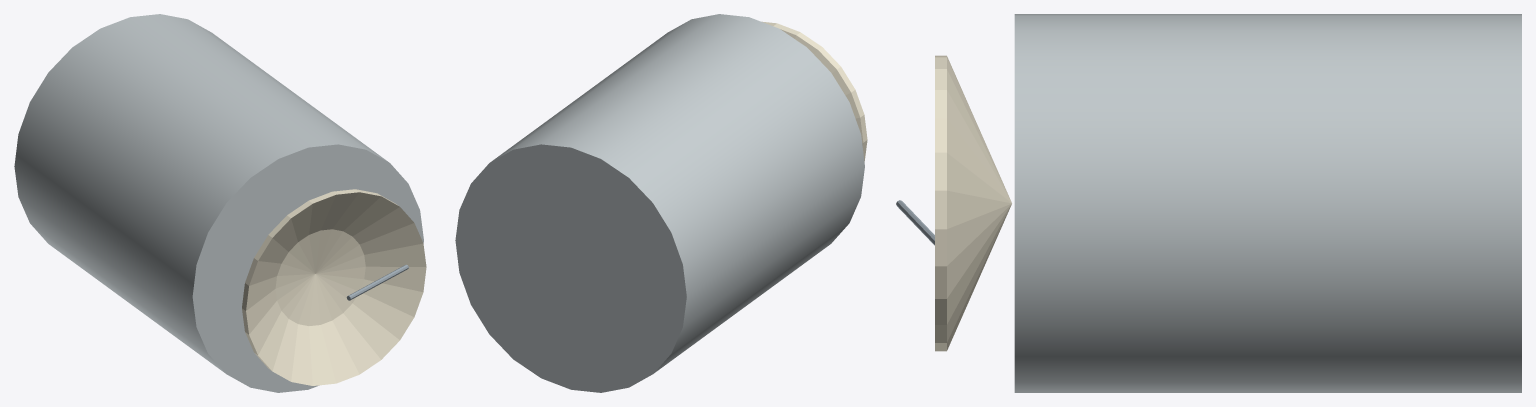
The model's file is ref-sar-lupe-29658.glb.
The picture shows the model from 3 angles, left to right: view 1: azimuth 30°, elevation 25°; view 2: azimuth 150°, elevation 25°; view 3: azimuth 270°, elevation 25°; orthographic projection. The views are drawn at different scales.
Parts seen in each view (by area): view 1: Spacecraft body, Reflector dish, Feed support; view 2: Spacecraft body, Reflector dish; view 3: Spacecraft body, Reflector dish.
Boxes of the visible parts, <box> form: Spacecraft body: <box>14,14,423,392</box>; Reflector dish: <box>242,189,426,385</box>; Feed support: <box>346,264,408,300</box>; Spacecraft body: <box>455,14,864,392</box>; Reflector dish: <box>762,21,867,161</box>; Spacecraft body: <box>1014,14,1521,392</box>; Reflector dish: <box>935,55,1011,351</box>.
Size of the model in its own units: 3 by 3 by 4.94.
